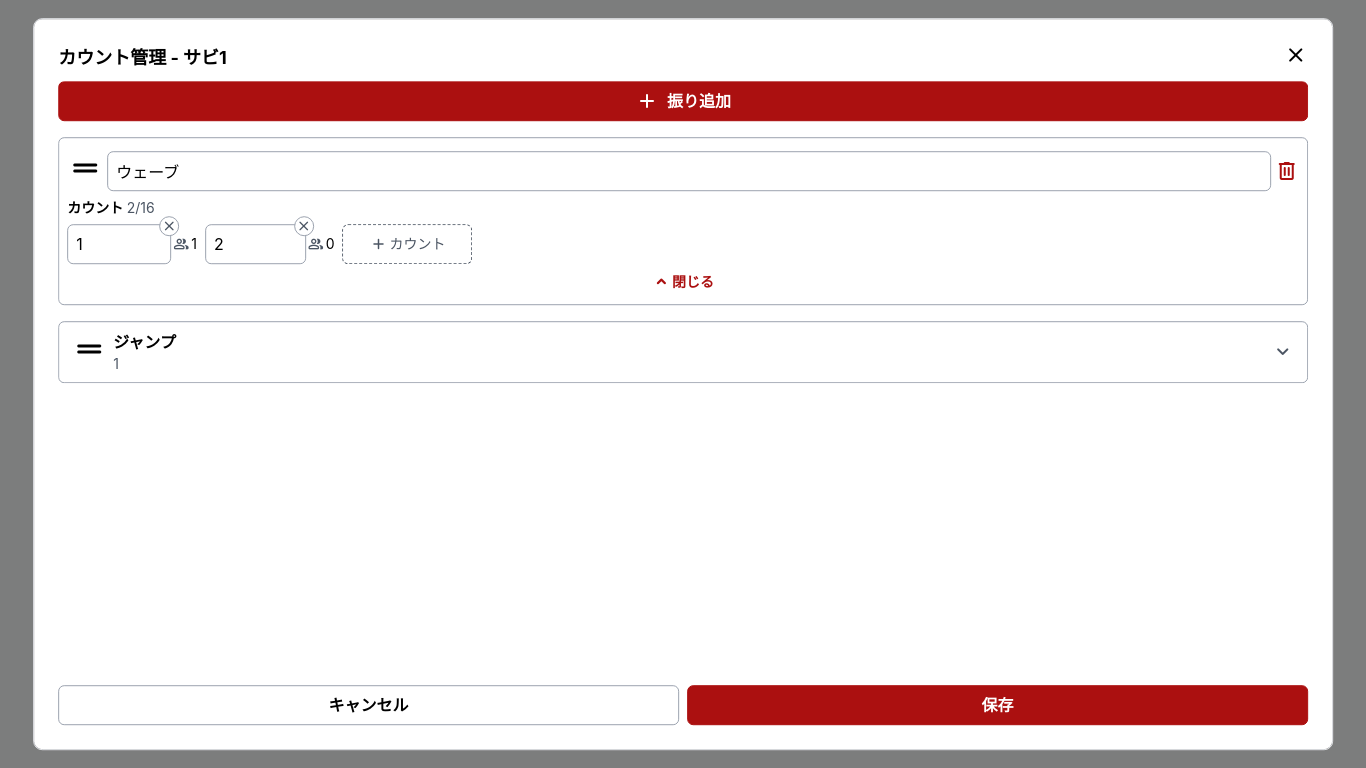
Test: ActionManagerDialog error timing › shows duplicate counts at once, even next to a blank one
Click the button "振り追加": (683, 101) [58, 81, 1308, 121]
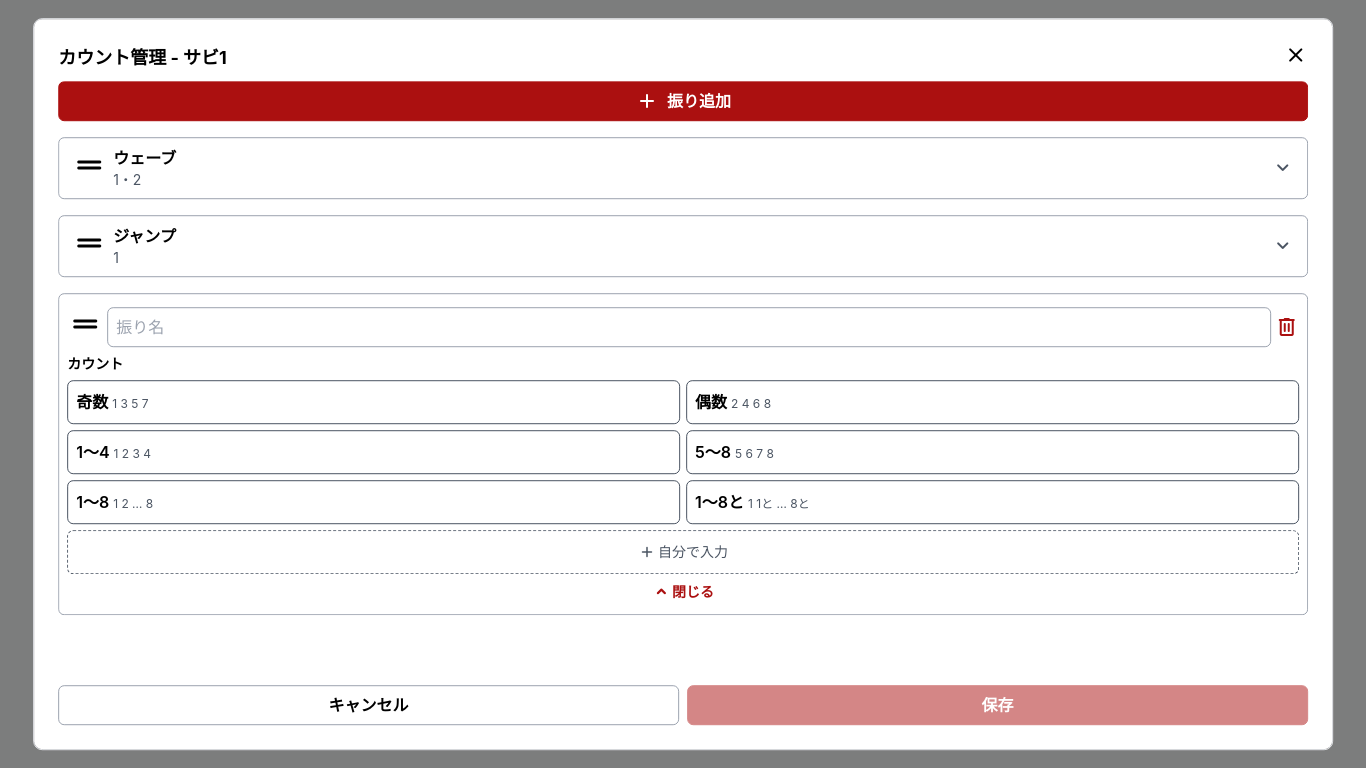
Click the button "自分で入力": (683, 552) [67, 530, 1299, 574]
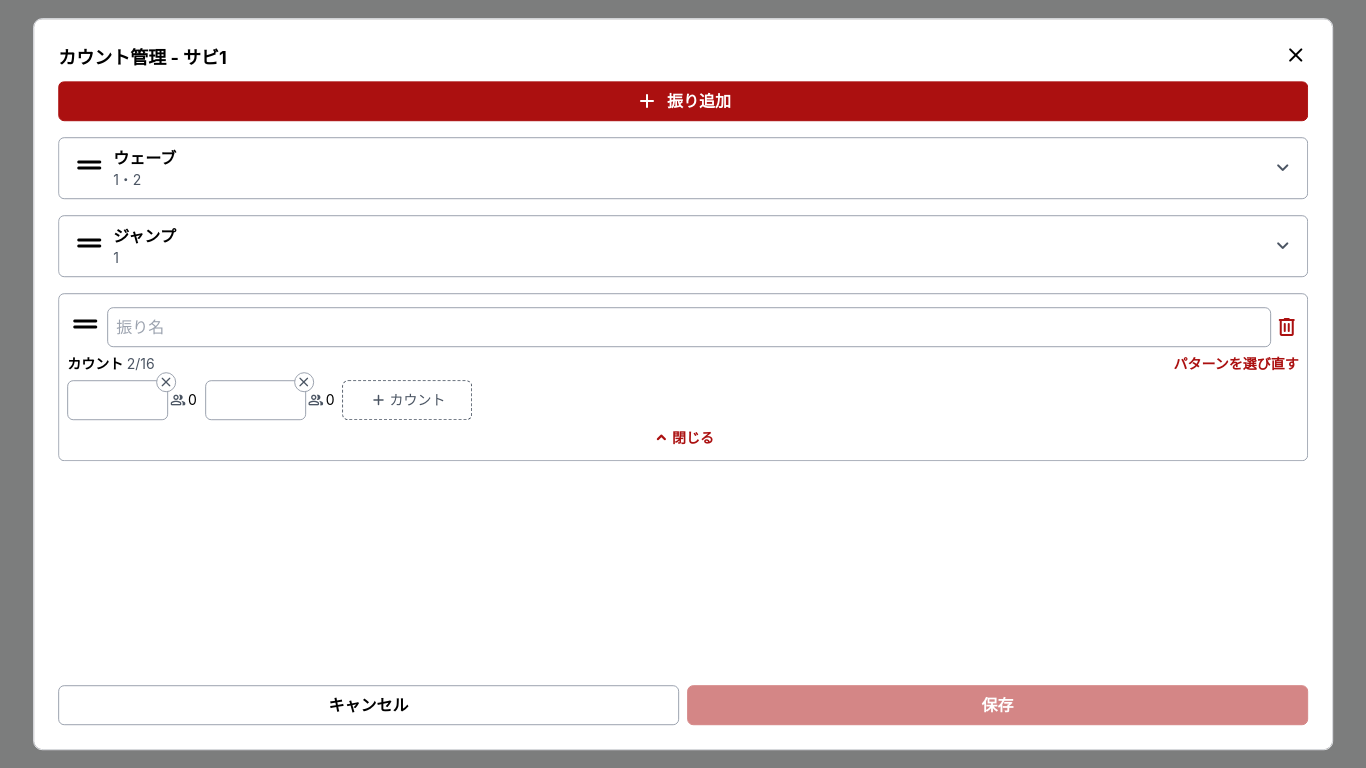
Click the button "カウント": (407, 400) [343, 380, 472, 420]
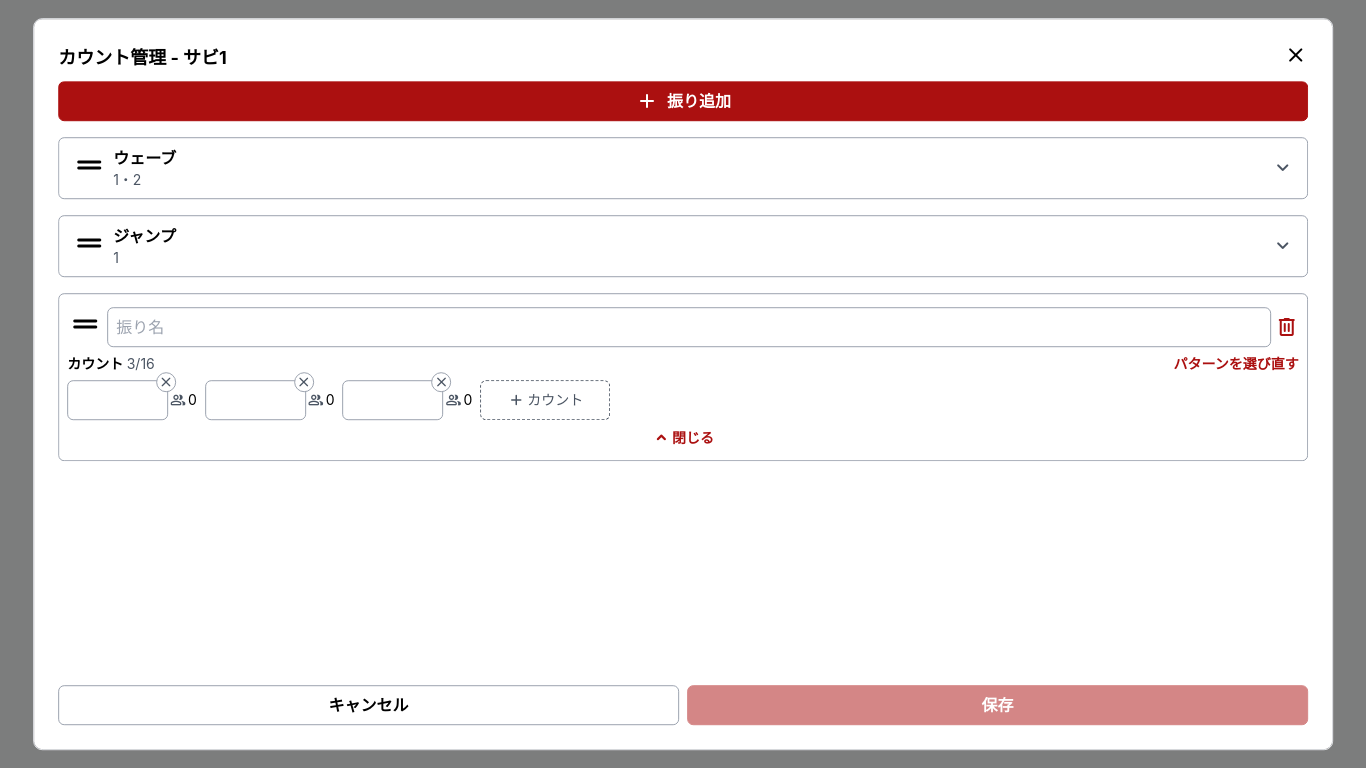
In the 2nd field: (118, 400) [67, 380, 168, 420], type "1"
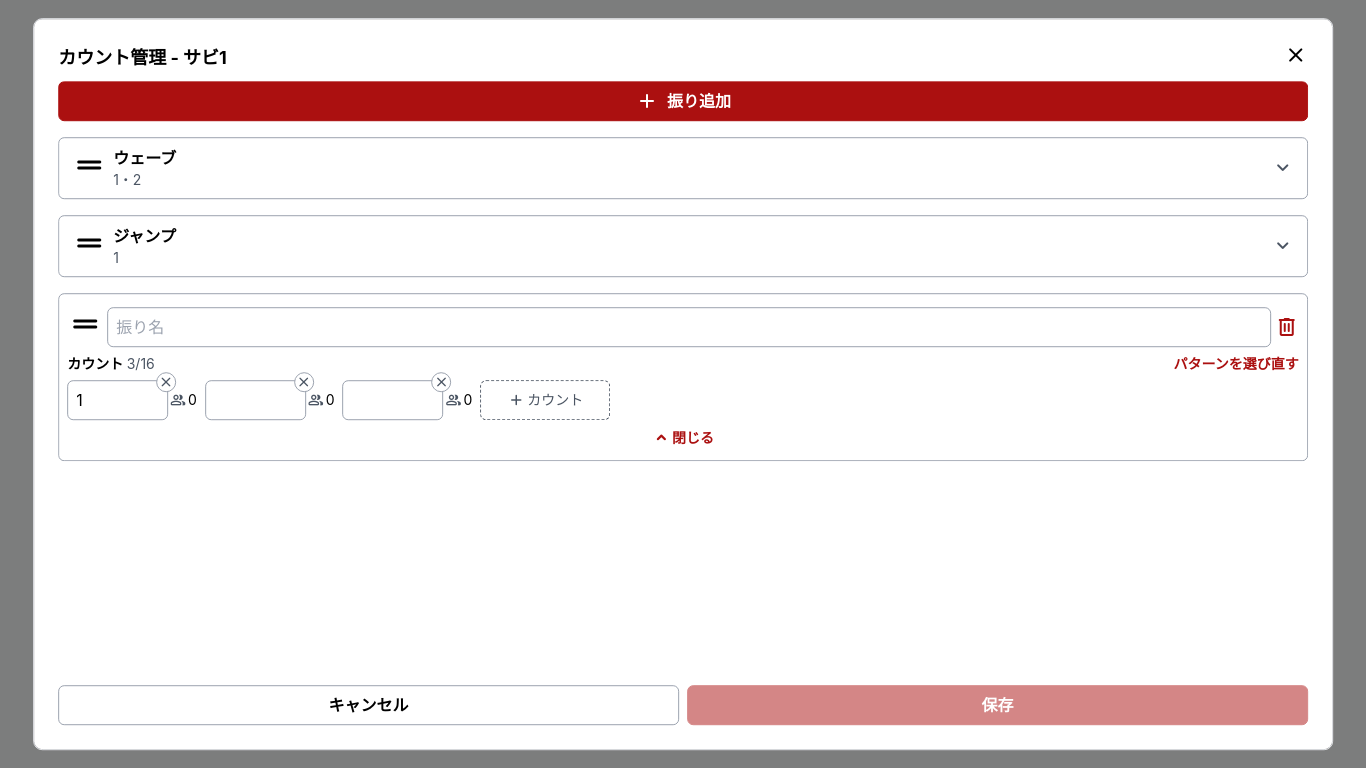
In the 3rd field: (255, 400) [205, 380, 306, 420], type "1"
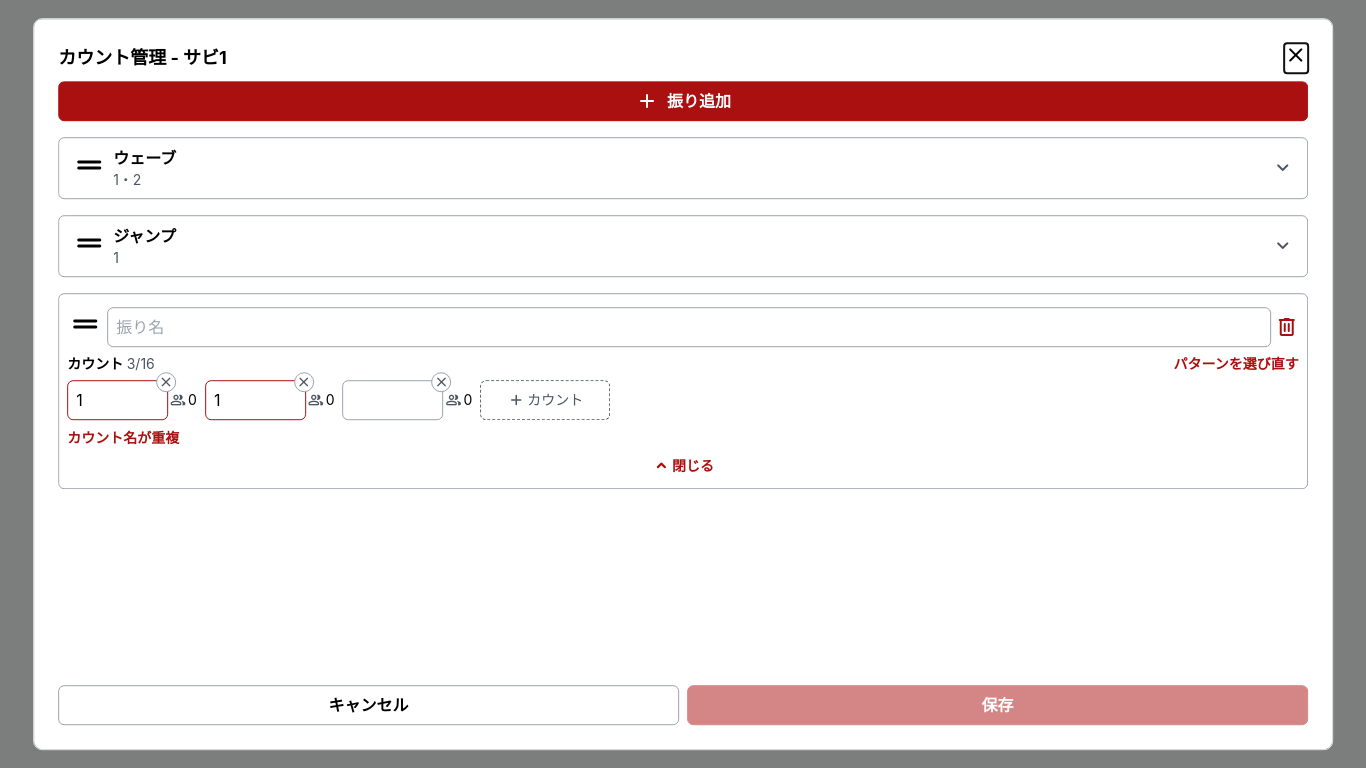
Result: the text "カウント名が重複" is shown at [67, 429, 179, 446]
